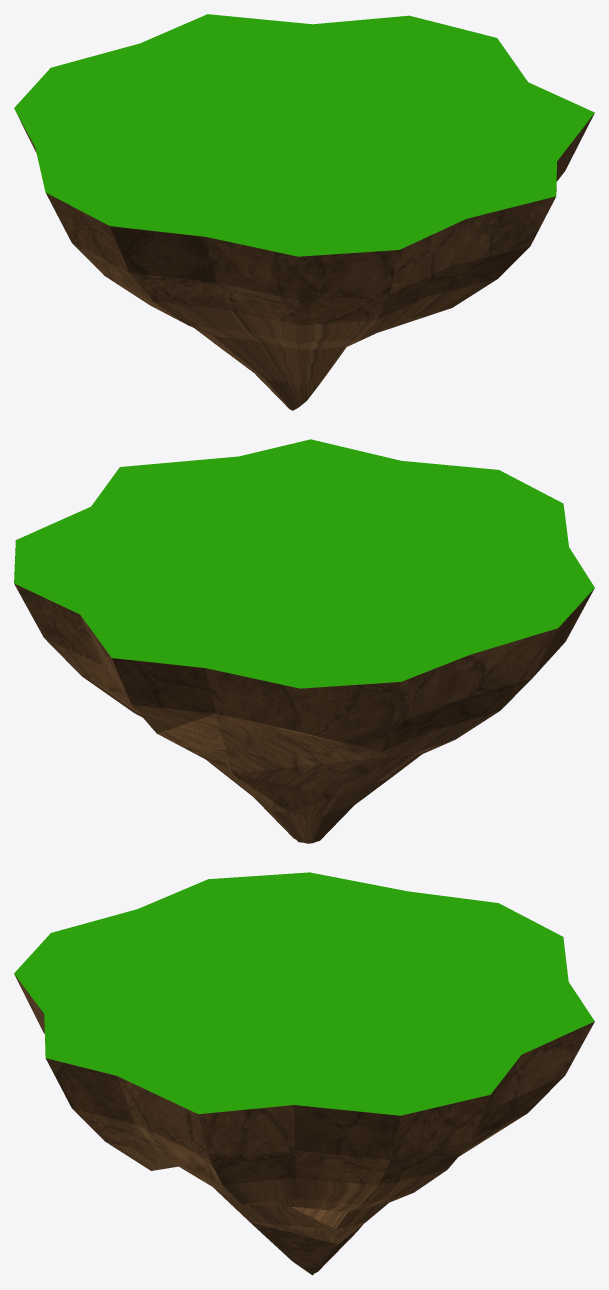
File: piattaforma_scoscesa_erba.fbx
3 renders of one model, top to bottom at view 1: azimuth 30°, elevation 25°; view 2: azimuth 150°, elevation 25°; view 3: azimuth 270°, elevation 25°, orthographic.
Parts seen in each view (by area): view 1: erba.002, ground villaggio.002; view 2: erba.002, ground villaggio.002; view 3: erba.002, ground villaggio.002.
Boxes of the visible parts, x1,y1,x2,y2 form: erba.002: (14,14,594,256); ground villaggio.002: (16,112,594,410); erba.002: (14,439,594,688); ground villaggio.002: (14,540,594,843); erba.002: (14,872,594,1115); ground villaggio.002: (14,974,594,1275).
Bounding box in the file's own units: 366 × 192 × 369.
